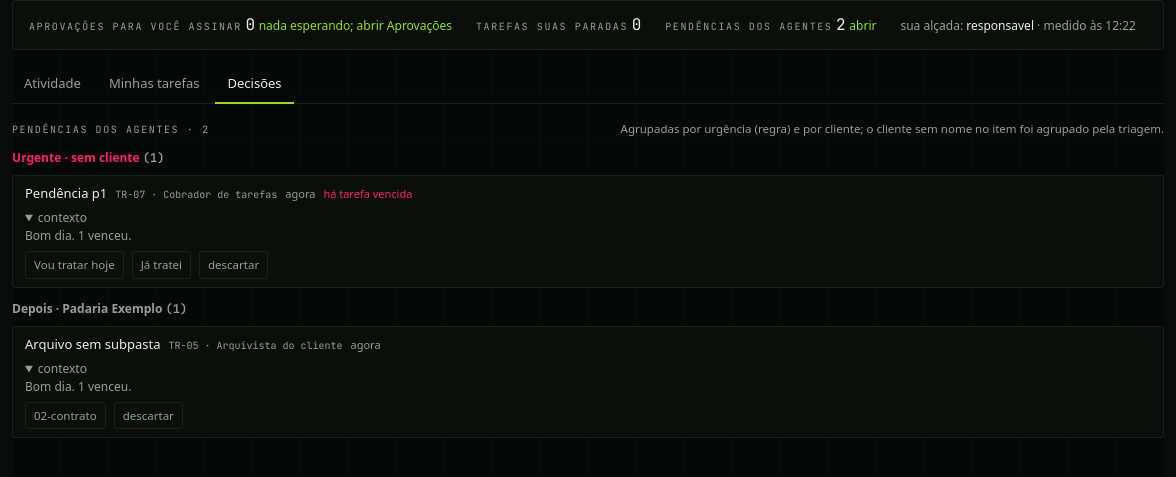
Test case: as pendências dos agentes na aba Decisões › a API recusa: o erro aparece no cartão e ele continua lá
Click the button with test id "pendencia-p1-opcao-ja-tratei" at coordinates (161, 265), box [132,251,191,279]
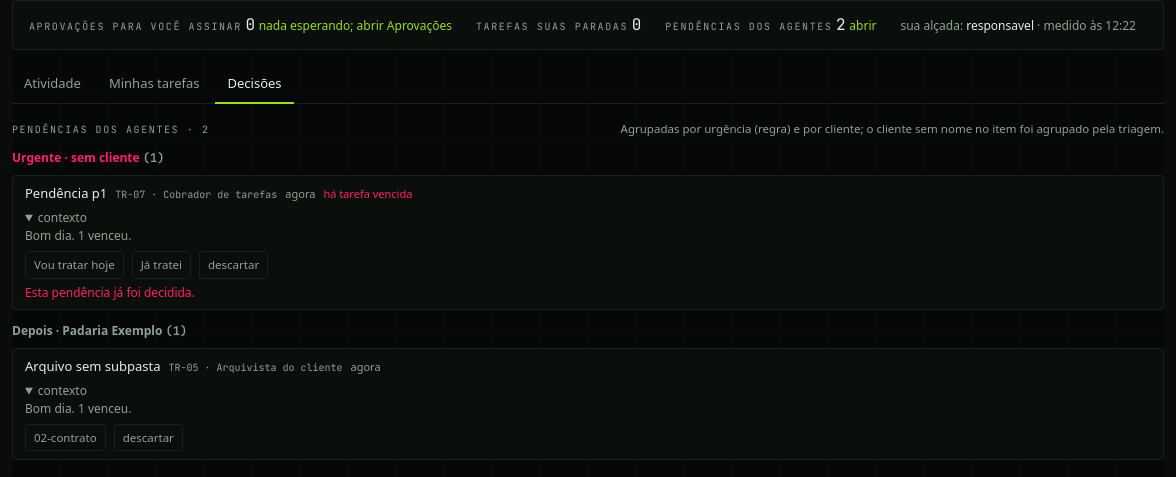
Now the message reads "Esta pendência já foi decidida.", box [25,284,195,300]
